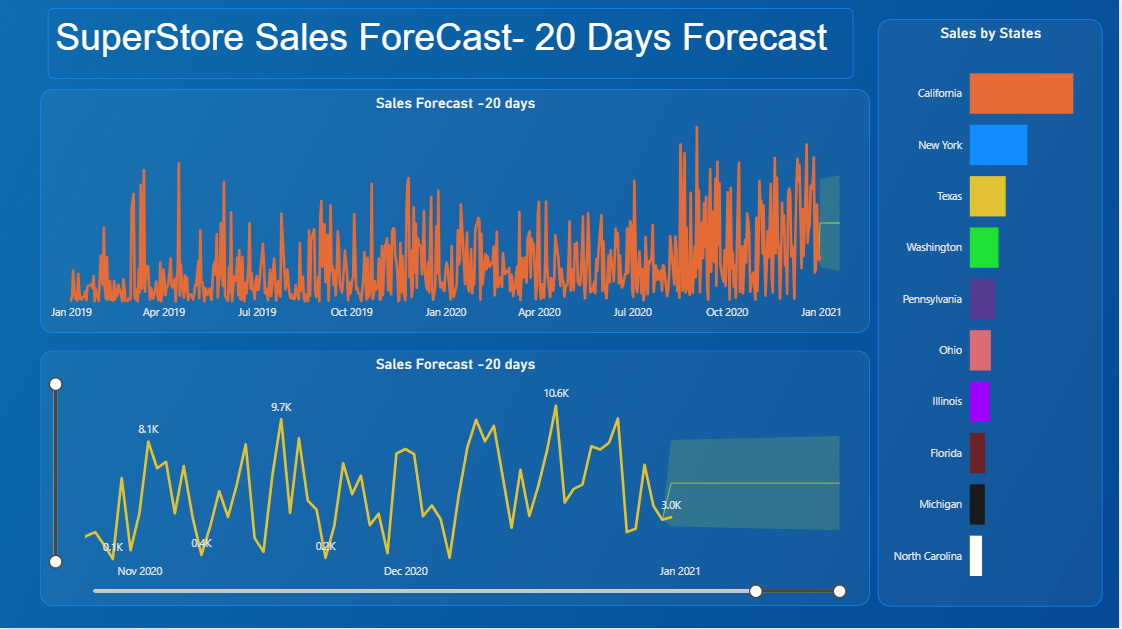

The dashboard page shown, as its layout file describes it:
{"tool":"powerbi","page":{"name":"Forecast","canvas":[1280,720],"ordinal":1},"visuals":[{"type":"lineChart","title":"Sales Forecast -20 days","fields":{"Y":["Sum(sales Forecast.Total sales)"],"Category":["sales Forecast.Order Date"]},"box":[46.7,104.3,948.2,278.6],"z":0},{"type":"lineChart","title":"Sales Forecast -20 days","fields":{"Y":["Sum(sales Forecast.Total sales)"],"Category":["sales Forecast.Order Date"]},"box":[46.7,403.4,948.2,292.3],"z":1000},{"type":"barChart","title":"Sales by States","fields":{"Y":["Sum(SuperStore_Sales_Dataset.Sales)"],"Category":["SuperStore_Sales_Dataset.State"]},"box":[1004.3,24.3,257.1,671.4],"z":2000},{"type":"textbox","box":[56.3,11,920.8,81],"z":3000}]}

Visuals, with their boxes in screenshot pixels (x1, y1, x2, y2), scaled from the page's 1280x720 canvas onto the 1122x629 screenshot:
"Sales Forecast -20 days" lineChart: {"left": 41, "top": 91, "right": 872, "bottom": 335}
"Sales Forecast -20 days" lineChart: {"left": 41, "top": 352, "right": 872, "bottom": 608}
"Sales by States" barChart: {"left": 880, "top": 21, "right": 1106, "bottom": 608}
textbox: {"left": 49, "top": 10, "right": 856, "bottom": 80}
